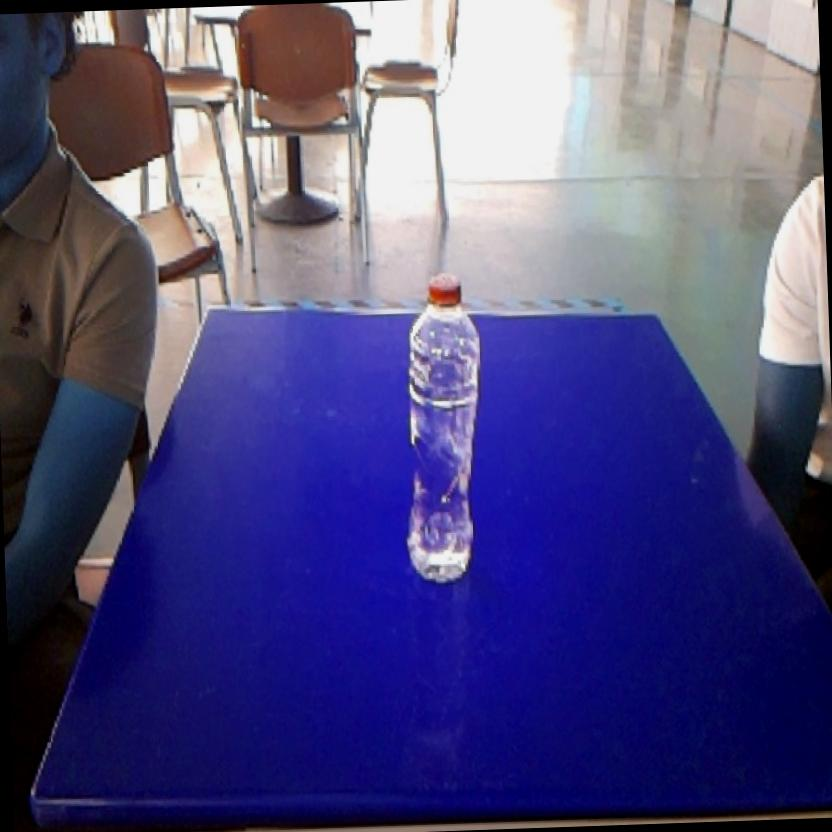no_label: (390, 258, 496, 593)
